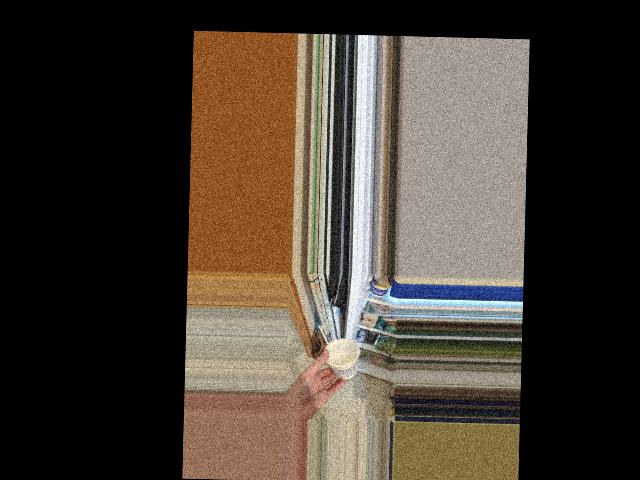cotage: (324, 340, 357, 380)
